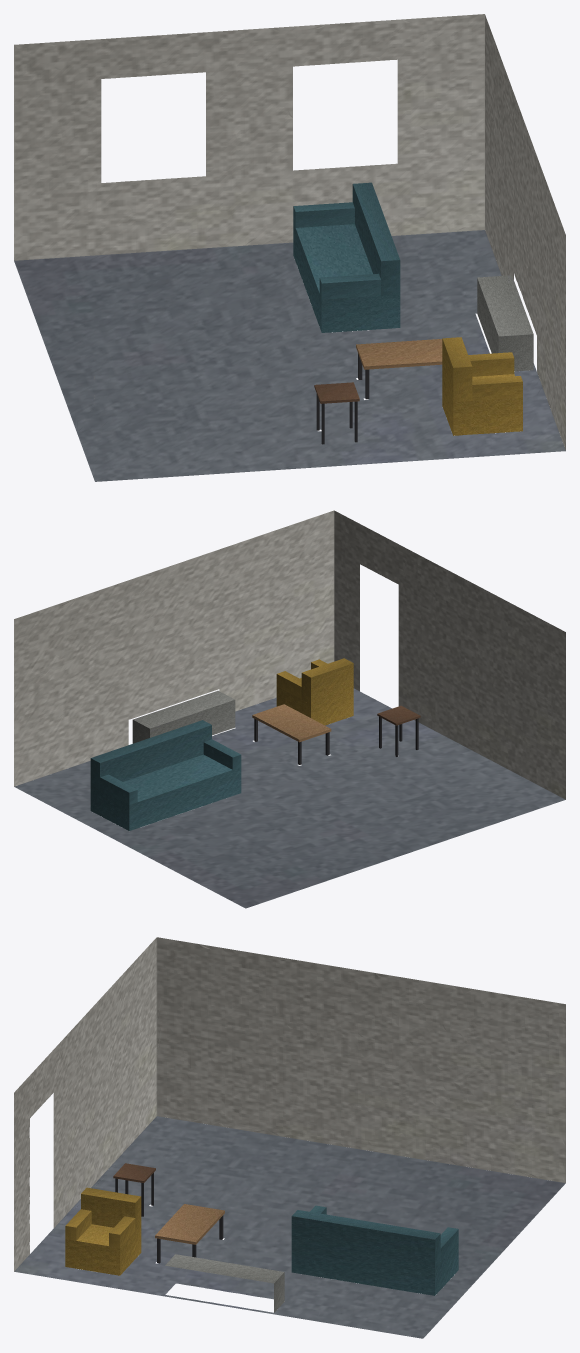
The model's file is fill-1.glb.
The picture shows the model from 3 angles, top to bottom: view 1: azimuth 30°, elevation 25°; view 2: azimuth 150°, elevation 25°; view 3: azimuth 270°, elevation 25°; orthographic projection. The views are drawn at different scales.
Parts seen in each view (by area): view 1: Floor, North wall, East wall, Sofa base, Bench, Sofa back, Armchair base, Sofa arms, Coffee table top, Armchair arms, Armchair back, Side table top (+1 smaller); view 2: East wall, Floor, South wall, Sofa base, Sofa back, Bench, Armchair back, Armchair base, Coffee table top, Sofa arms, Armchair arms, Side table top; view 3: West wall, Floor, South wall, Sofa back, Sofa base, Armchair base, Bench, Armchair back, Coffee table top, Armchair arms, Side table top, Sofa arms.
Boxes of the visible parts, x1,y1,x2,y2 form: Floor: [14, 230, 565, 481]; North wall: [14, 14, 484, 260]; East wall: [485, 15, 565, 450]; Sofa base: [293, 222, 400, 332]; Bench: [477, 275, 533, 371]; Sofa back: [352, 182, 400, 295]; Armchair base: [442, 373, 522, 435]; Sofa arms: [293, 202, 380, 299]; Coffee table top: [356, 339, 442, 369]; Armchair arms: [468, 352, 522, 400]; Armchair back: [442, 337, 472, 402]; Side table top: [314, 382, 359, 403]; East wall: [14, 510, 334, 786]; Floor: [14, 688, 565, 908]; South wall: [334, 510, 565, 799]; Sofa base: [90, 754, 241, 830]; Sofa back: [90, 720, 211, 789]; Bench: [132, 690, 235, 743]; Armchair back: [301, 658, 353, 704]; Armchair base: [276, 678, 353, 725]; Coffee table top: [252, 704, 331, 742]; Sofa arms: [100, 739, 241, 804]; Armchair arms: [276, 659, 327, 699]; Side table top: [377, 705, 420, 725]; West wall: [156, 937, 565, 1182]; Floor: [14, 1116, 565, 1338]; South wall: [14, 938, 156, 1271]; Sofa back: [291, 1210, 440, 1267]; Sofa base: [291, 1243, 458, 1295]; Armchair base: [65, 1224, 141, 1275]; Bench: [165, 1254, 284, 1312]; Armchair back: [81, 1187, 141, 1230]; Coffee table top: [155, 1204, 224, 1244]; Armchair arms: [65, 1209, 135, 1247]; Side table top: [113, 1163, 155, 1182]; Sofa arms: [310, 1205, 458, 1261].
Bounding box in the file's own units: 7.2 × 2.7 × 7.55.
17 materials, 17 textured.
